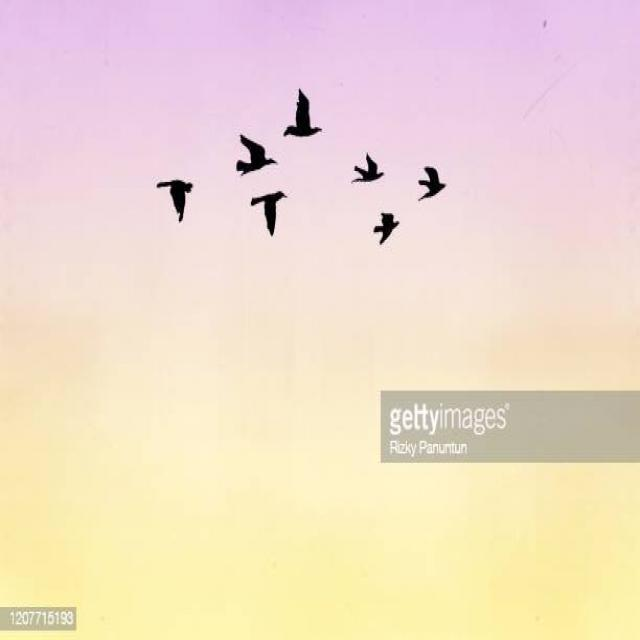bird: (275, 88, 326, 150), (153, 172, 204, 230), (224, 127, 280, 178), (245, 188, 290, 245), (366, 201, 404, 249), (412, 163, 453, 207), (348, 152, 387, 189)
